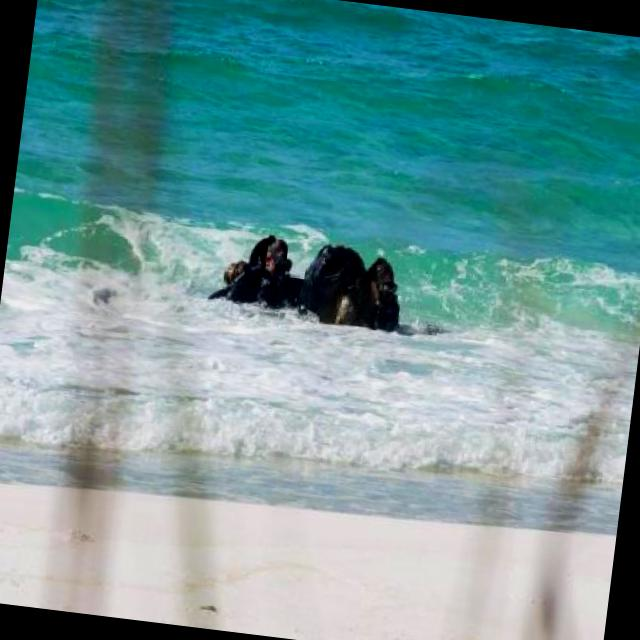Person: (204, 226, 413, 336)
